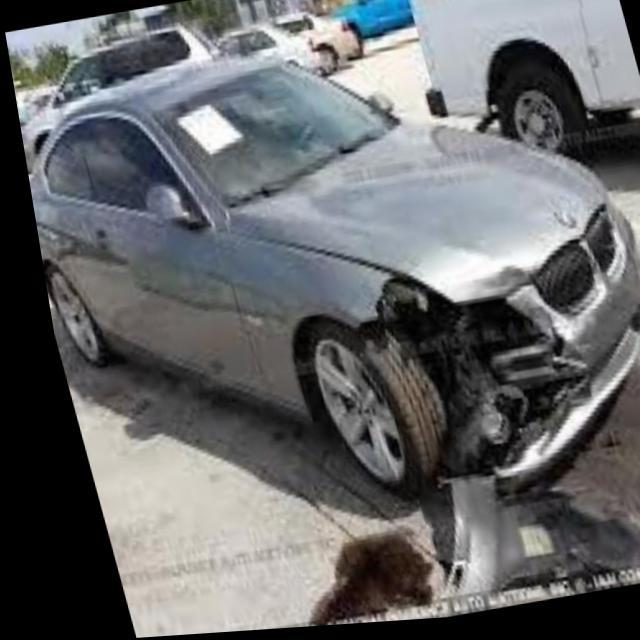no part: (340, 267, 576, 598)
